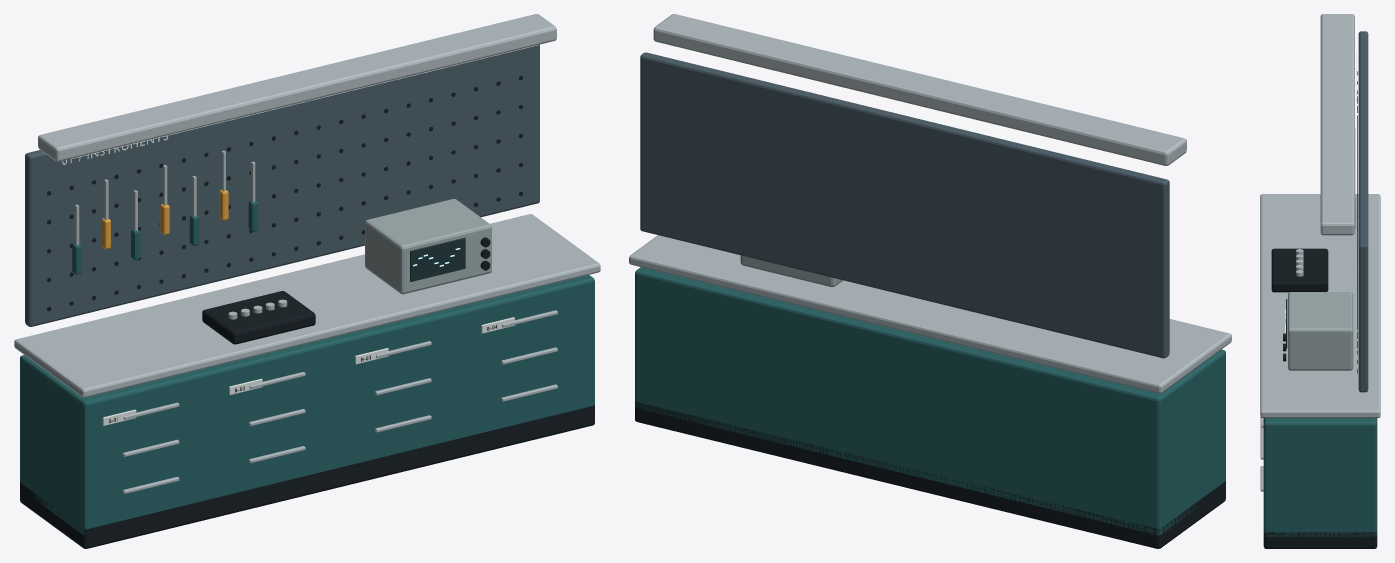
File: workbench.glb
3 renders of one model, left to right at view 1: azimuth 30°, elevation 25°; view 2: azimuth 150°, elevation 25°; view 3: azimuth 270°, elevation 25°, orthographic. The views are drawn at different scales.
Parts seen in each view (by area): view 1: lab_static_paint-slate, lab_static_paint-teal, lab_static_alloy, lab_static_rubber, lab_static_panel-light, lab_static_screen, lab_static_white, lab_static_amber; view 2: lab_static_paint-slate, lab_static_paint-teal, lab_static_alloy, lab_static_rubber, lab_static_panel-light; view 3: lab_static_alloy, lab_static_paint-teal, lab_static_panel-light, lab_static_rubber, lab_static_paint-slate.
Part boxes in pixels (x1=…): lab_static_paint-slate: x1=25, y1=44, x2=539, y2=326; lab_static_paint-teal: x1=20, y1=200, x2=594, y2=535; lab_static_alloy: x1=14, y1=14, x2=600, y2=493; lab_static_rubber: x1=20, y1=76, x2=594, y2=548; lab_static_panel-light: x1=365, y1=199, x2=491, y2=294; lab_static_screen: x1=410, y1=237, x2=465, y2=281; lab_static_white: x1=62, y1=136, x2=514, y2=425; lab_static_amber: x1=101, y1=189, x2=228, y2=249; lab_static_paint-slate: x1=640, y1=52, x2=1169, y2=358; lab_static_paint-teal: x1=635, y1=267, x2=1225, y2=535; lab_static_alloy: x1=629, y1=14, x2=1231, y2=393; lab_static_rubber: x1=635, y1=401, x2=1225, y2=548; lab_static_panel-light: x1=740, y1=255, x2=842, y2=287; lab_static_alloy: x1=1260, y1=14, x2=1380, y2=491; lab_static_paint-teal: x1=1263, y1=176, x2=1377, y2=537; lab_static_panel-light: x1=1288, y1=292, x2=1353, y2=370; lab_static_rubber: x1=1263, y1=71, x2=1377, y2=548; lab_static_paint-slate: x1=1358, y1=31, x2=1368, y2=392.
Bounding box in the file's own units: 3 × 2.08 × 0.7001.
